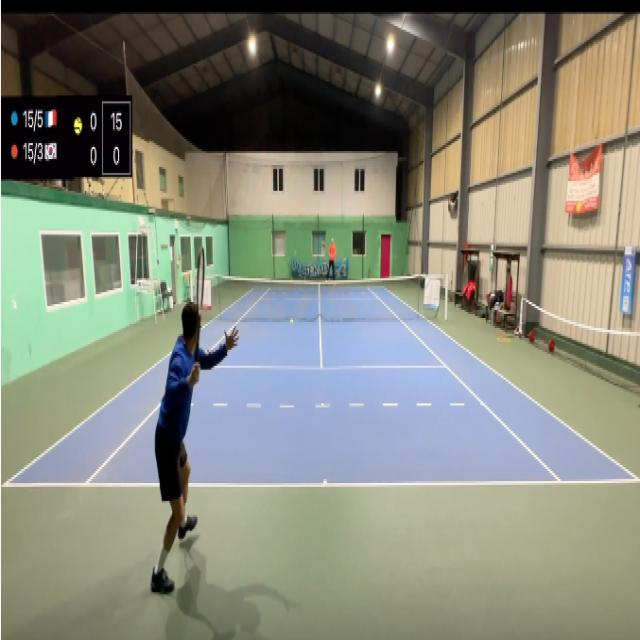ball: (290, 317, 294, 325)
